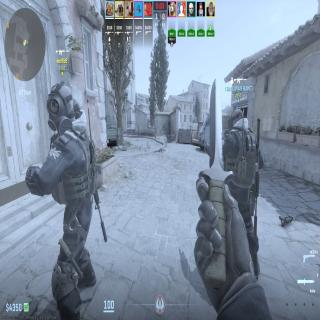CT-Body: (34, 80, 98, 311), (224, 100, 265, 193)
CT-Head: (46, 80, 74, 134), (227, 106, 244, 134)
